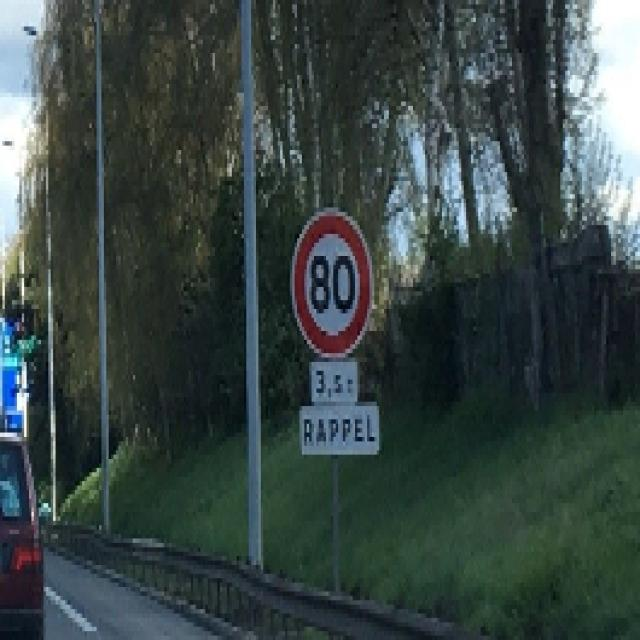speed_80: (291, 206, 375, 360)
